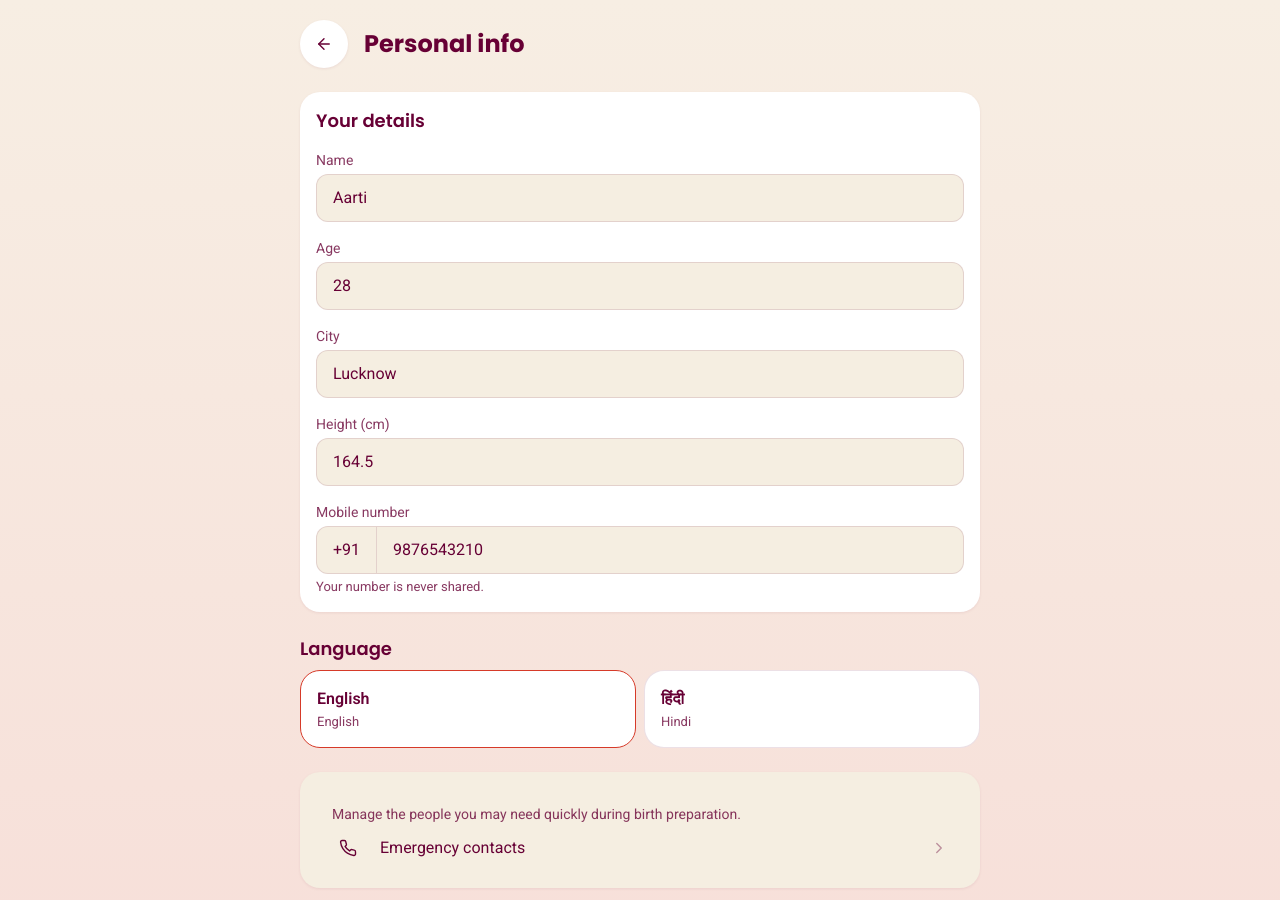
it: PersonalInfoForm › saves edits through the action and reports success
The width and height of the screenshot is (1280, 900).
Replace the text in the field labelled "Name" with "Priya" at (640, 198), box [316, 174, 964, 222]
(page scrolled)
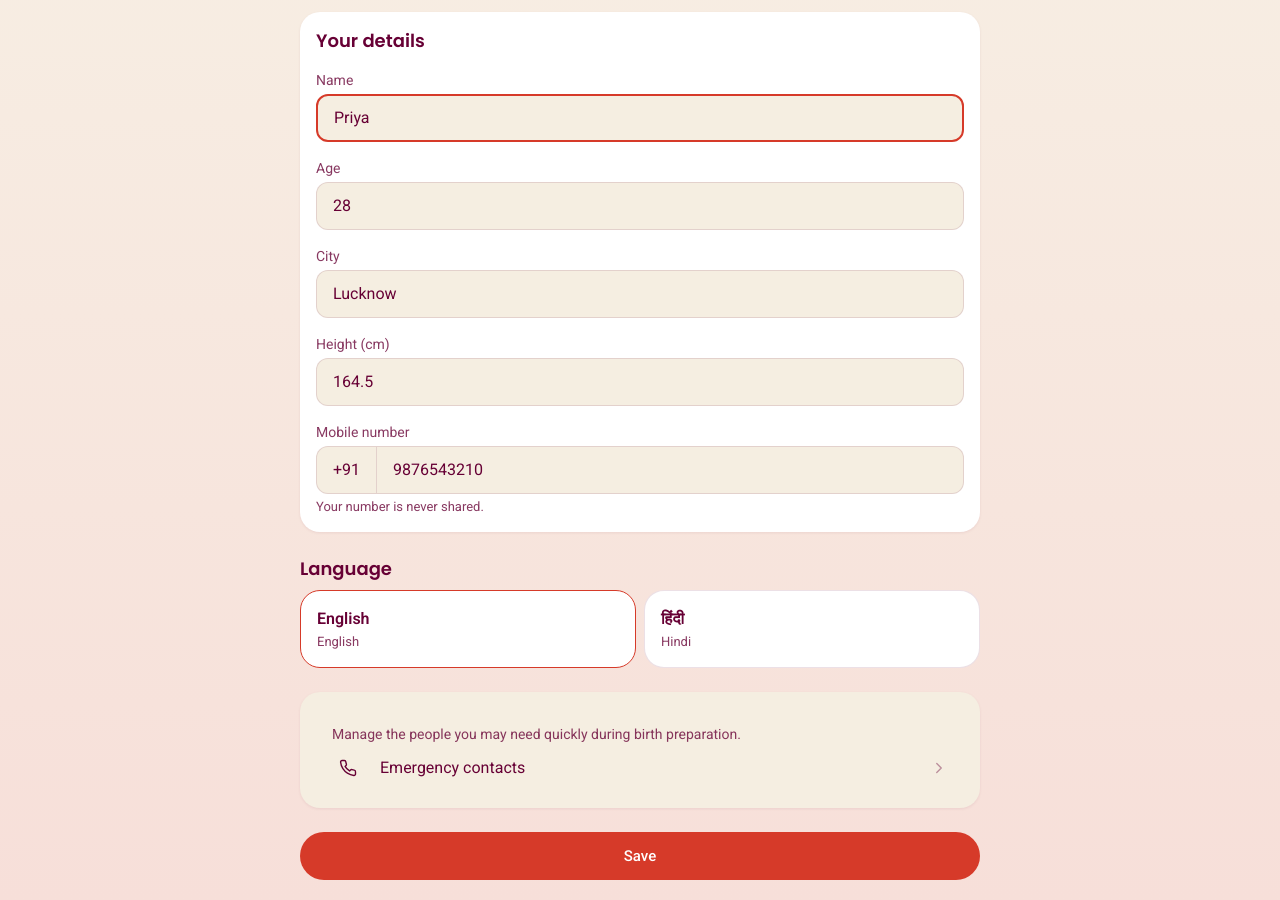
Click the button "Save" at (640, 856), box [300, 832, 980, 880]
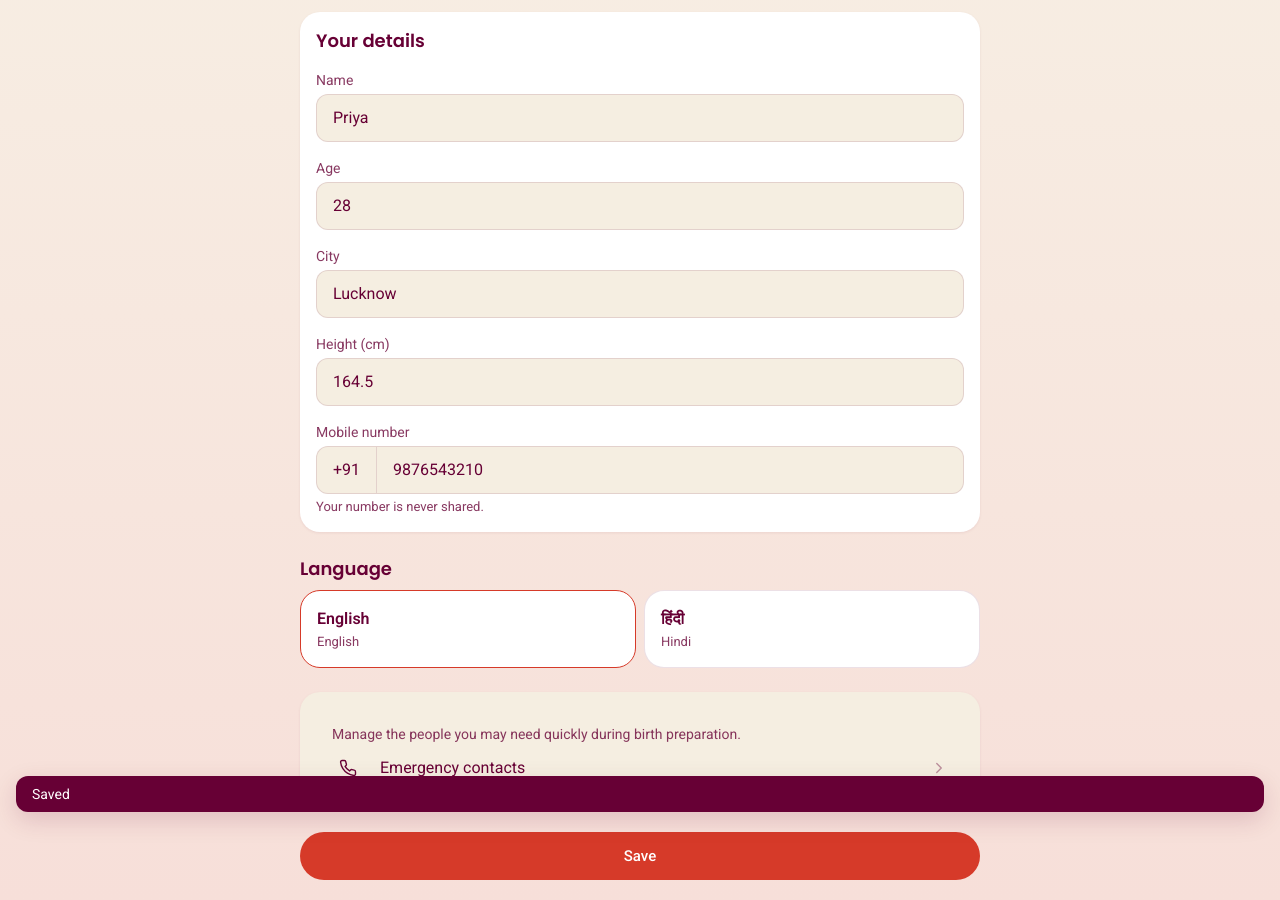
expect the message reads "Saved": met, box [32, 786, 70, 802]
